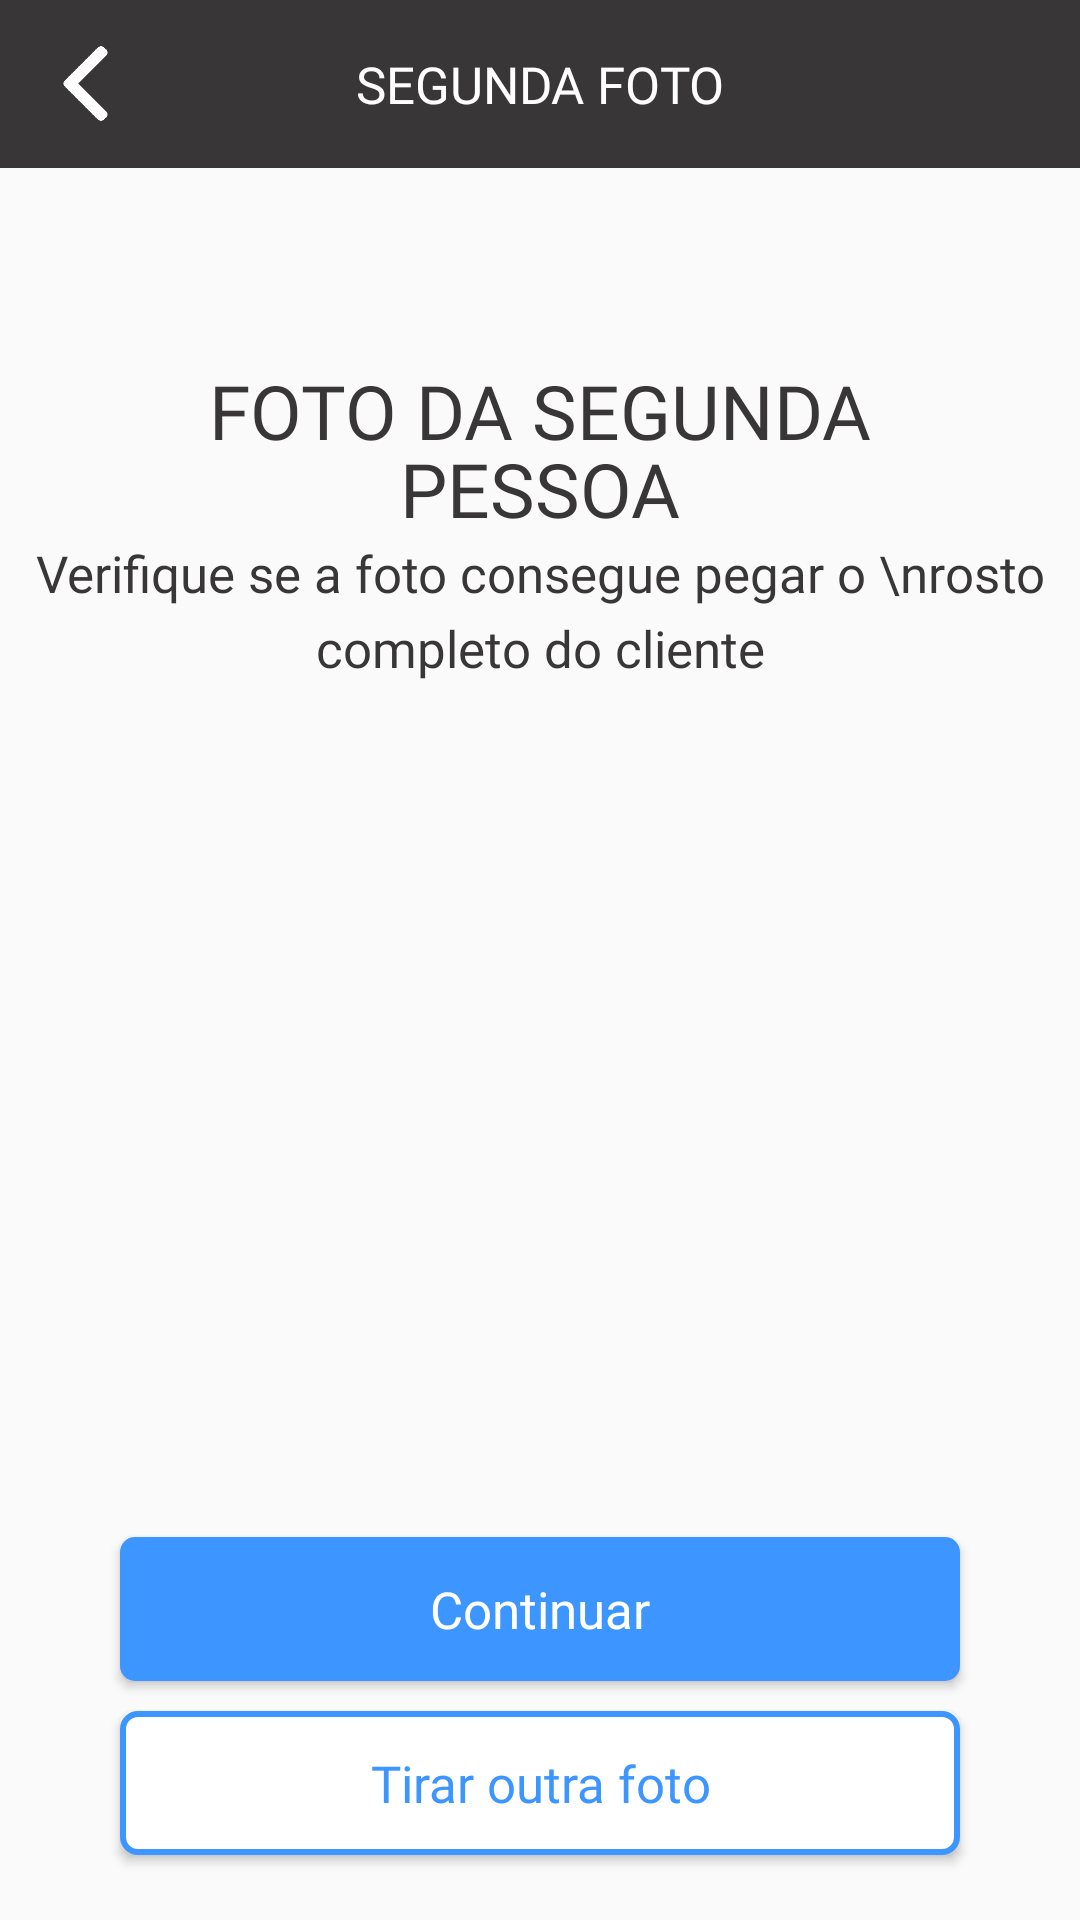

Named icons in this screenshot (1080x1920) and their bounding boxes, (x1, y1, x2, y2):
left arrow: (63, 46, 108, 121)
